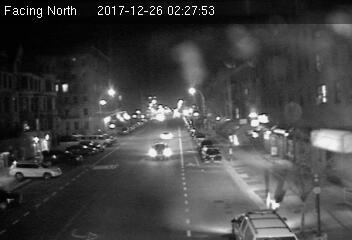car: (147, 142, 171, 159), (201, 146, 222, 162)
truck: (228, 210, 301, 240)
